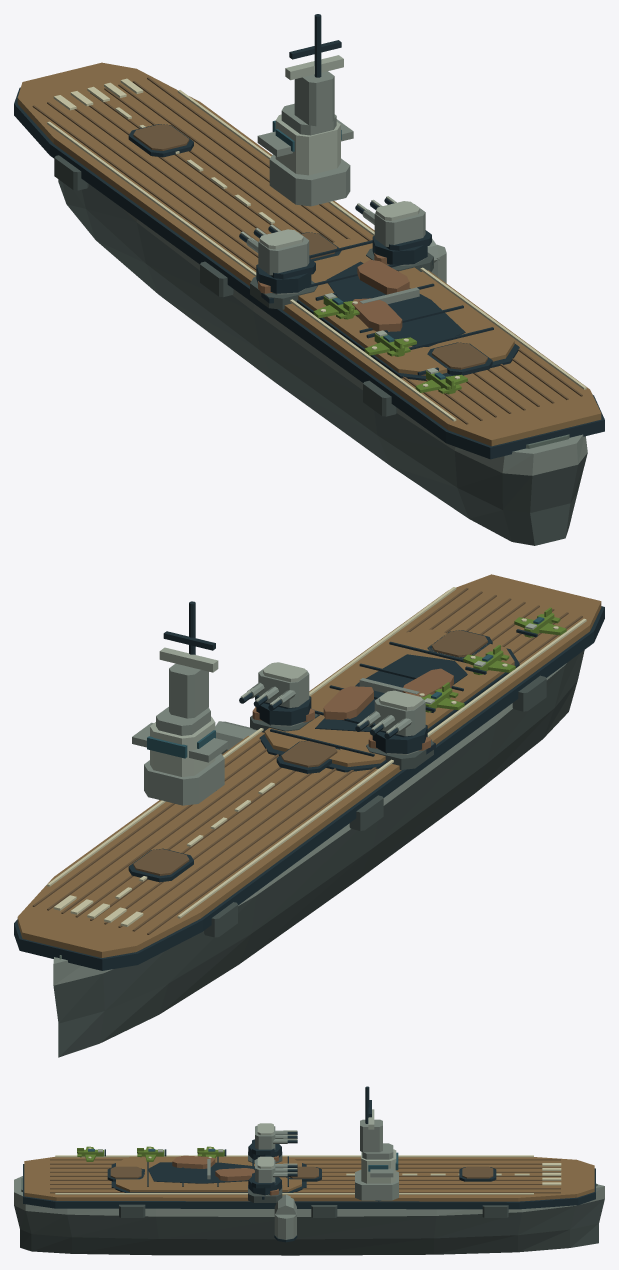
Rendered from historic-kaga.glb.
3 views of the same model, one above another, from view 1: azimuth 30°, elevation 25°; view 2: azimuth 150°, elevation 25°; view 3: azimuth 270°, elevation 25° (orthographic). The views are drawn at different scales.
Visible parts, largest first — view 1: historic-kaga-historic-kaga-geometry, historic-kaga-part_bridge.024-geometry, historic-kaga-part_flight-deck.006-geometry, historic-kaga-ruin_flight-deck.005-geometry, historic-kaga-turret_aa_aa-port.026-geometry, historic-kaga-turret_aa_aa-starboard.024-geometry, historic-kaga-aircraft_lift_0.006-geometry, historic-kaga-aircraft_lift_2.005-geometry, historic-kaga-parked_aircraft_0.006-geometry, historic-kaga-parked_aircraft_1.006-geometry, historic-kaga-parked_aircraft_2.006-geometry, historic-kaga-part_aa-port.026-geometry; view 2: historic-kaga-historic-kaga-geometry, historic-kaga-part_bridge.024-geometry, historic-kaga-part_flight-deck.006-geometry, historic-kaga-ruin_flight-deck.005-geometry, historic-kaga-turret_aa_aa-starboard.024-geometry, historic-kaga-turret_aa_aa-port.026-geometry, historic-kaga-aircraft_lift_0.006-geometry, historic-kaga-aircraft_lift_1.006-geometry, historic-kaga-aircraft_lift_2.005-geometry, historic-kaga-parked_aircraft_0.006-geometry, historic-kaga-parked_aircraft_1.006-geometry, historic-kaga-part_aa-port.026-geometry (+2 smaller); view 3: historic-kaga-historic-kaga-geometry, historic-kaga-part_bridge.024-geometry, historic-kaga-part_flight-deck.006-geometry, historic-kaga-ruin_flight-deck.005-geometry, historic-kaga-turret_aa_aa-starboard.024-geometry, historic-kaga-turret_aa_aa-port.026-geometry, historic-kaga-historic_funnel_0.025-geometry, historic-kaga-aircraft_lift_0.006-geometry, historic-kaga-aircraft_lift_2.005-geometry, historic-kaga-aircraft_lift_1.006-geometry, historic-kaga-part_aa-starboard.024-geometry, historic-kaga-parked_aircraft_1.006-geometry (+2 smaller).
Boxes of the visible parts, bbox=[...] form: historic-kaga-historic-kaga-geometry: bbox=[14, 62, 604, 545]; historic-kaga-part_bridge.024-geometry: bbox=[257, 14, 353, 206]; historic-kaga-part_flight-deck.006-geometry: bbox=[297, 239, 519, 380]; historic-kaga-ruin_flight-deck.005-geometry: bbox=[326, 259, 465, 346]; historic-kaga-turret_aa_aa-port.026-geometry: bbox=[239, 224, 315, 293]; historic-kaga-turret_aa_aa-starboard.024-geometry: bbox=[355, 196, 431, 264]; historic-kaga-aircraft_lift_0.006-geometry: bbox=[128, 124, 193, 157]; historic-kaga-aircraft_lift_2.005-geometry: bbox=[427, 342, 492, 375]; historic-kaga-parked_aircraft_0.006-geometry: bbox=[415, 367, 467, 394]; historic-kaga-parked_aircraft_1.006-geometry: bbox=[364, 330, 416, 356]; historic-kaga-parked_aircraft_2.006-geometry: bbox=[313, 292, 359, 319]; historic-kaga-part_aa-port.026-geometry: bbox=[250, 277, 317, 309]; historic-kaga-historic-kaga-geometry: bbox=[14, 574, 604, 1057]; historic-kaga-part_bridge.024-geometry: bbox=[132, 601, 227, 805]; historic-kaga-part_flight-deck.006-geometry: bbox=[259, 629, 519, 772]; historic-kaga-ruin_flight-deck.005-geometry: bbox=[315, 654, 467, 731]; historic-kaga-turret_aa_aa-starboard.024-geometry: bbox=[239, 662, 311, 725]; historic-kaga-turret_aa_aa-port.026-geometry: bbox=[355, 690, 427, 753]; historic-kaga-aircraft_lift_0.006-geometry: bbox=[128, 848, 193, 882]; historic-kaga-aircraft_lift_1.006-geometry: bbox=[276, 740, 340, 773]; historic-kaga-aircraft_lift_2.005-geometry: bbox=[427, 630, 492, 659]; historic-kaga-parked_aircraft_0.006-geometry: bbox=[514, 607, 566, 637]; historic-kaga-parked_aircraft_1.006-geometry: bbox=[463, 645, 515, 674]; historic-kaga-part_aa-port.026-geometry: bbox=[366, 737, 433, 769]; historic-kaga-historic-kaga-geometry: bbox=[14, 1155, 604, 1255]; historic-kaga-part_bridge.024-geometry: bbox=[355, 1086, 398, 1200]; historic-kaga-part_flight-deck.006-geometry: bbox=[111, 1156, 306, 1192]; historic-kaga-ruin_flight-deck.005-geometry: bbox=[148, 1155, 254, 1183]; historic-kaga-turret_aa_aa-starboard.024-geometry: bbox=[248, 1156, 297, 1195]; historic-kaga-turret_aa_aa-port.026-geometry: bbox=[248, 1123, 297, 1159]; historic-kaga-historic_funnel_0.025-geometry: bbox=[274, 1194, 297, 1242]; historic-kaga-aircraft_lift_0.006-geometry: bbox=[459, 1166, 496, 1181]; historic-kaga-aircraft_lift_2.005-geometry: bbox=[107, 1166, 144, 1181]; historic-kaga-aircraft_lift_1.006-geometry: bbox=[286, 1166, 321, 1181]; historic-kaga-part_aa-starboard.024-geometry: bbox=[248, 1185, 282, 1202]; historic-kaga-parked_aircraft_1.006-geometry: bbox=[137, 1146, 166, 1161].
Size of the model in its own units: 1.4 by 1.92 by 5.89.
